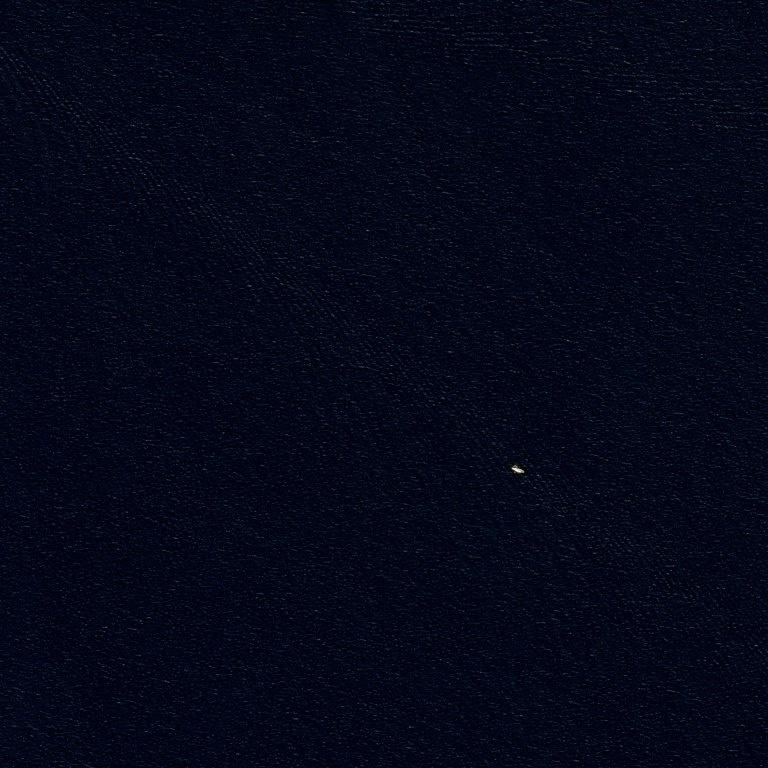ship: (510, 460, 525, 463), (511, 468, 512, 470), (514, 465, 516, 466), (523, 472, 524, 473)
